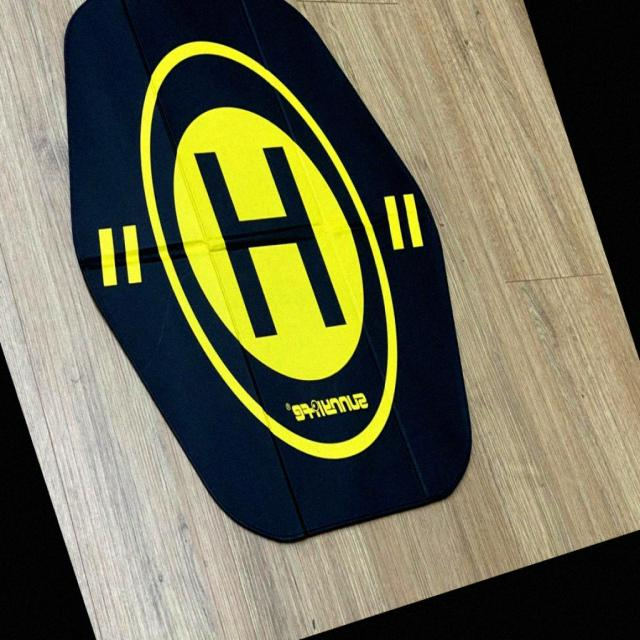helipad: (136, 35, 406, 461)
